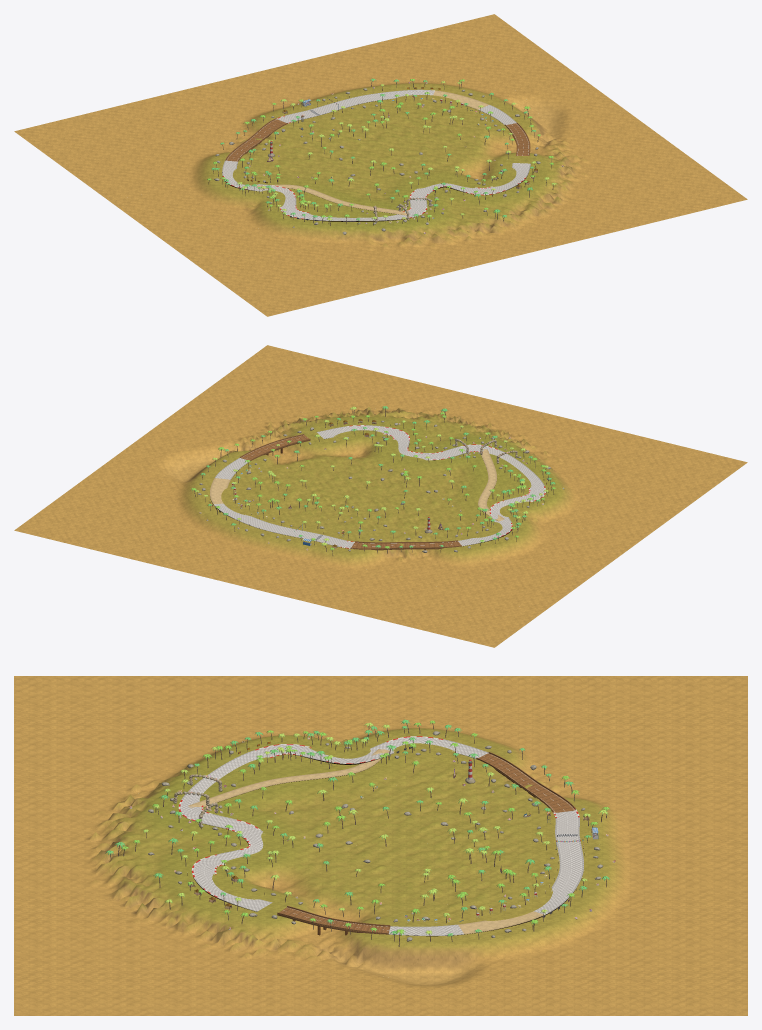
File: recife-coral.glb
3 renders of one model, top to bottom at view 1: azimuth 30°, elevation 25°; view 2: azimuth 150°, elevation 25°; view 3: azimuth 270°, elevation 25°, orthographic. The views are drawn at different scales.
Parts seen in each view (by area): view 1: terrain26, terrain27, terrain25, terrain12, terrain28, terrain1, terrain0, terrain6, terrain18, terrain24, terrain4, terrain15 (+32 smaller); view 2: terrain3, terrain2, terrain7, terrain12, terrain4, terrain6, terrain0, terrain24, terrain18, terrain1, terrain14, terrain15 (+33 smaller); view 3: terrain22, terrain16, terrain10, terrain28, terrain27, terrain3, terrain6, terrain4, terrain0, terrain1, terrain24, terrain15 (+49 smaller).
Part boxes in pixels (left/top/right/bottom): terrain26: left=375, top=205, right=505, bottom=266; terrain27: left=458, top=184, right=589, bottom=246; terrain25: left=291, top=224, right=421, bottom=287; terrain12: left=111, top=181, right=241, bottom=237; terrain28: left=542, top=171, right=672, bottom=226; terrain1: left=98, top=90, right=228, bottom=146; terrain0: left=14, top=111, right=145, bottom=166; terrain6: left=62, top=146, right=193, bottom=201; terrain18: left=159, top=217, right=289, bottom=272; terrain24: left=207, top=252, right=338, bottom=307; terrain4: left=348, top=29, right=479, bottom=83; terrain15: left=361, top=114, right=492, bottom=169; terrain3: left=160, top=530, right=291, bottom=586; terrain2: left=244, top=546, right=375, bottom=606; terrain7: left=376, top=530, right=506, bottom=591; terrain12: left=508, top=521, right=638, bottom=576; terrain4: left=77, top=510, right=208, bottom=565; terrain6: left=459, top=556, right=590, bottom=612; terrain0: left=411, top=592, right=542, bottom=647; terrain24: left=604, top=451, right=735, bottom=506; terrain18: left=556, top=486, right=687, bottom=541; terrain1: left=328, top=572, right=458, bottom=627; terrain14: left=341, top=474, right=471, bottom=529; terrain15: left=257, top=458, right=388, bottom=509; terrain22: left=188, top=902, right=328, bottom=971; terrain16: left=328, top=902, right=468, bottom=979; terrain10: left=468, top=903, right=608, bottom=975; terrain28: left=49, top=902, right=188, bottom=971; terrain27: left=49, top=843, right=188, bottom=912; terrain3: left=608, top=846, right=747, bottom=912; terrain6: left=468, top=676, right=608, bottom=735; terrain4: left=608, top=911, right=747, bottom=971; terrain0: left=608, top=676, right=747, bottom=735; terrain1: left=608, top=735, right=747, bottom=794; terrain24: left=49, top=676, right=188, bottom=735; terrain15: left=328, top=843, right=468, bottom=909.
Size of what is drawn, in the model's own units: 690 by 57.39 by 630.
Materials: 31 (16 with a texture image).
